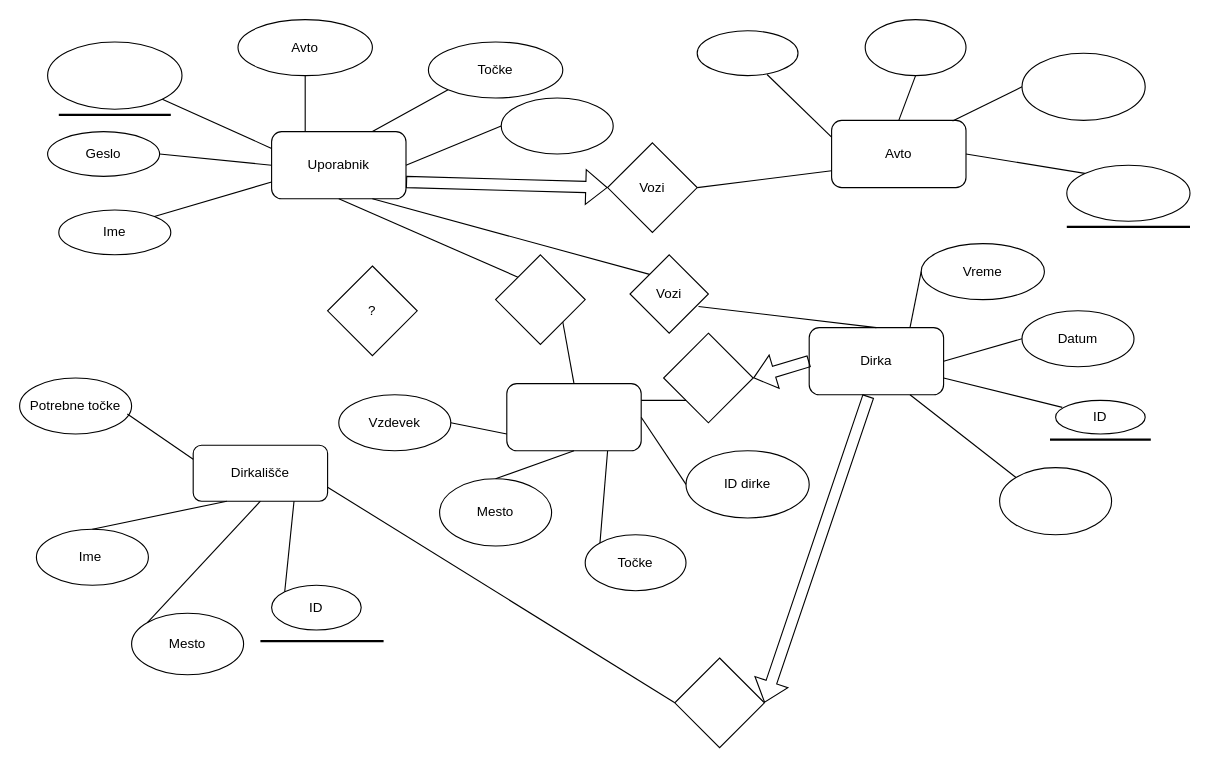
The diagram is 1211 pixels wide and 767 high, and some of its shapes have lost their labels. Here are the shapes that lost their labels. From the top down, the centre of each, then its label:
At point 747,53: "Znamka".
At point 915,47: "Moč".
At point 114,75: "Uporabniško ime / vzdevek".
At point 1083,86: "Max Hitrost".
At point 556,125: "Priimek".
At point 1128,192: "Model".
At point 539,299: "Dobljene točke".
At point 707,377: "Konec dirke".
At point 573,416: "Rezultat dirke".
At point 1055,500: "Zmagovalni avto".
At point 719,702: "Se izvede".
